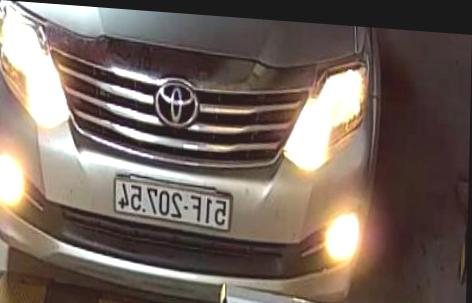License_Plate: (106, 173, 236, 232)
